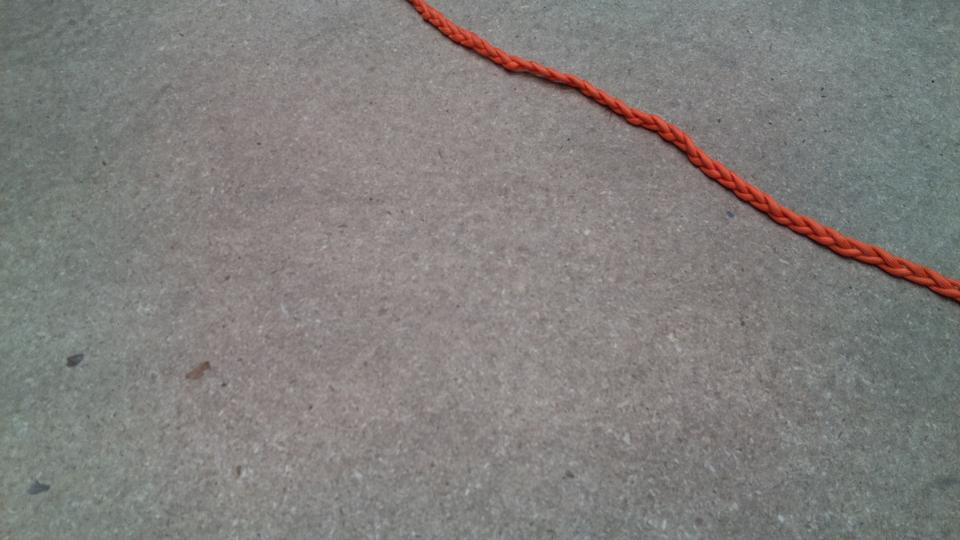rope: (426, 1, 959, 289)
